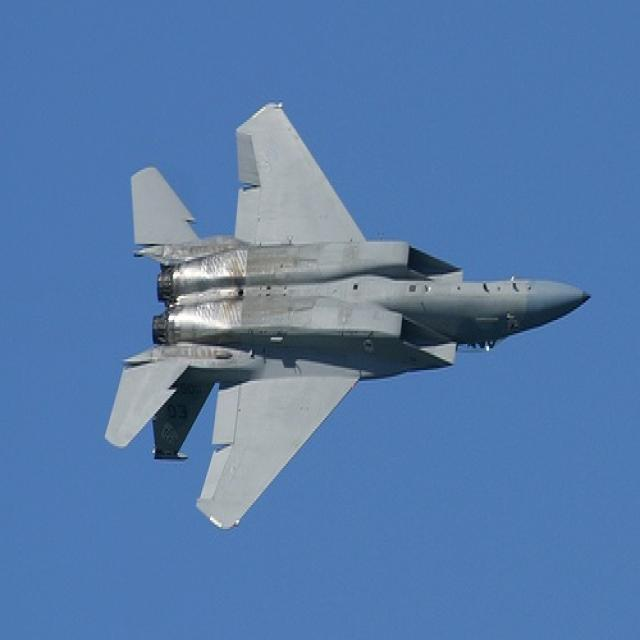aeroplane: (105, 102, 590, 529)
